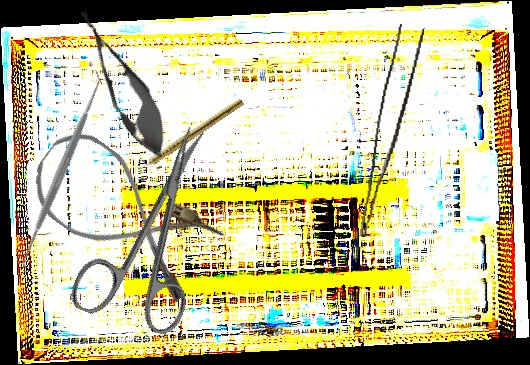Cannula: (17, 119, 228, 308)
Handpiece: (135, 96, 245, 174)
Iris Scissors: (65, 109, 252, 347)
Micro Scissor: (64, 1, 182, 166)
Spatula Surgical: (10, 68, 113, 271)
Tissue Forceps: (359, 22, 425, 242)
